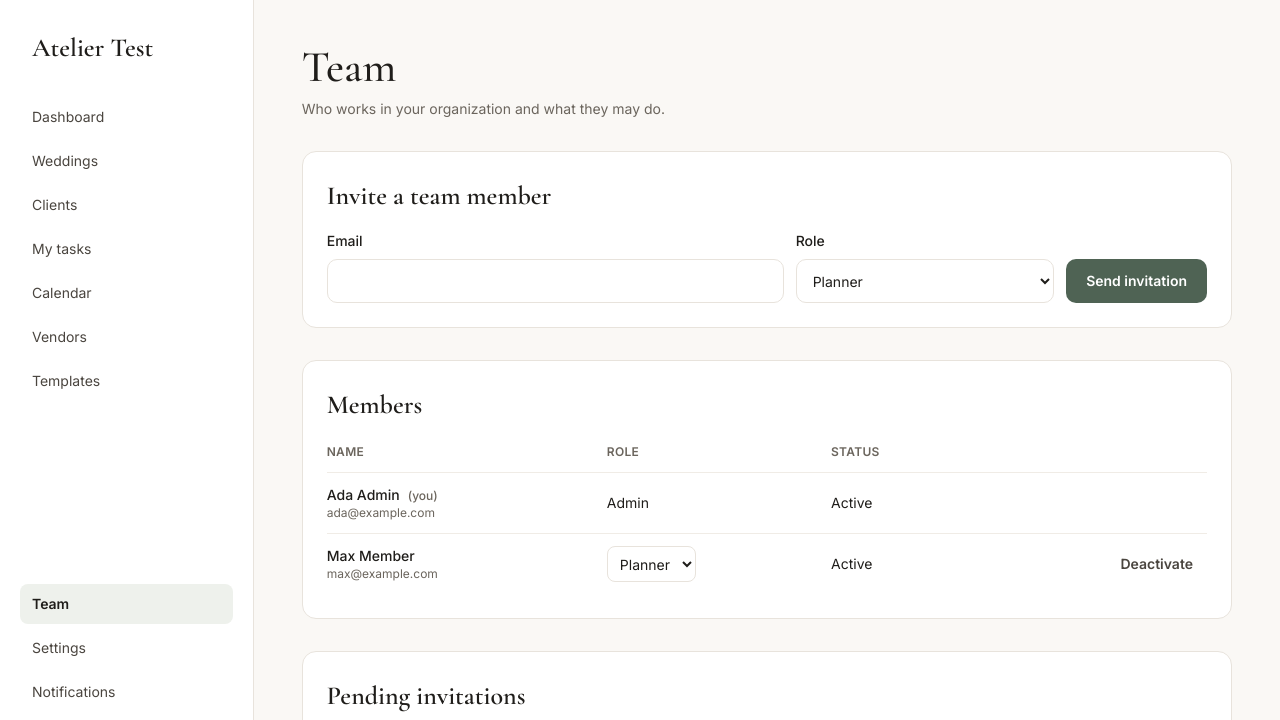
Test: asks for the password again before a sensitive change, then retries it
Click the button "Deactivate" at (1157, 564), box [1106,546,1207,582]
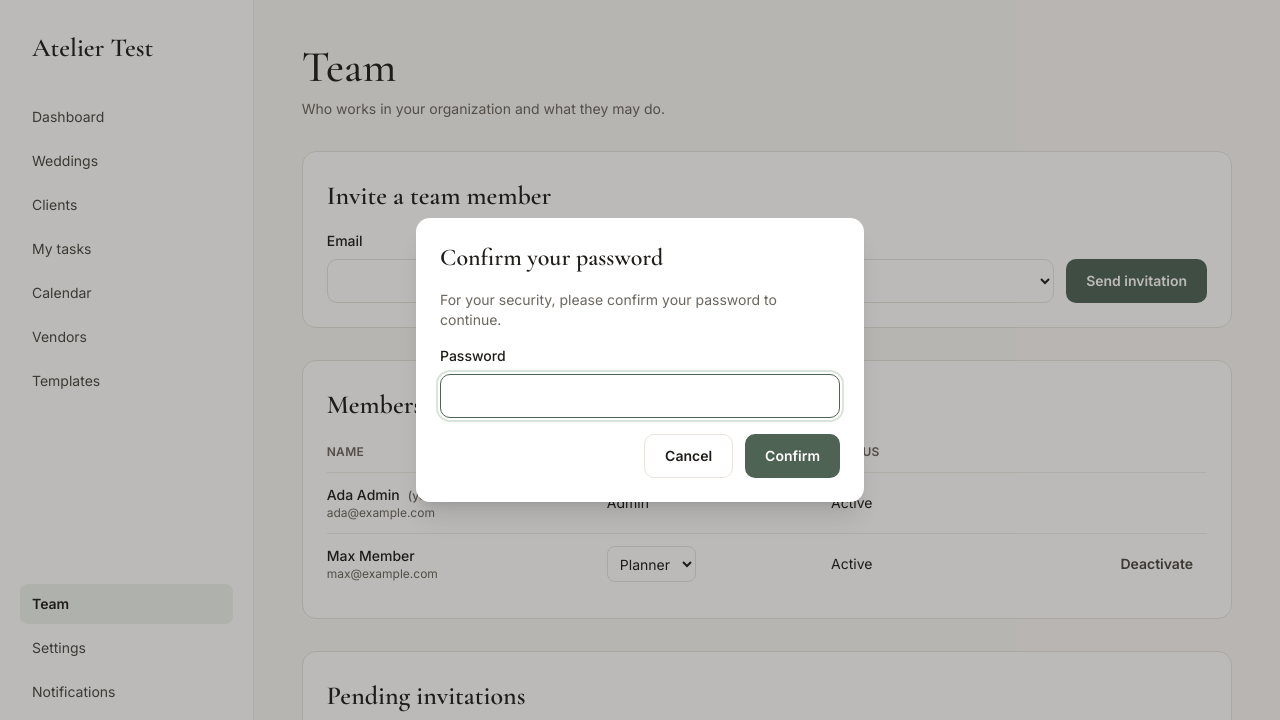
Type "correct horse battery" into the password field labelled "Password" at (640, 396), box [440,374,840,418]
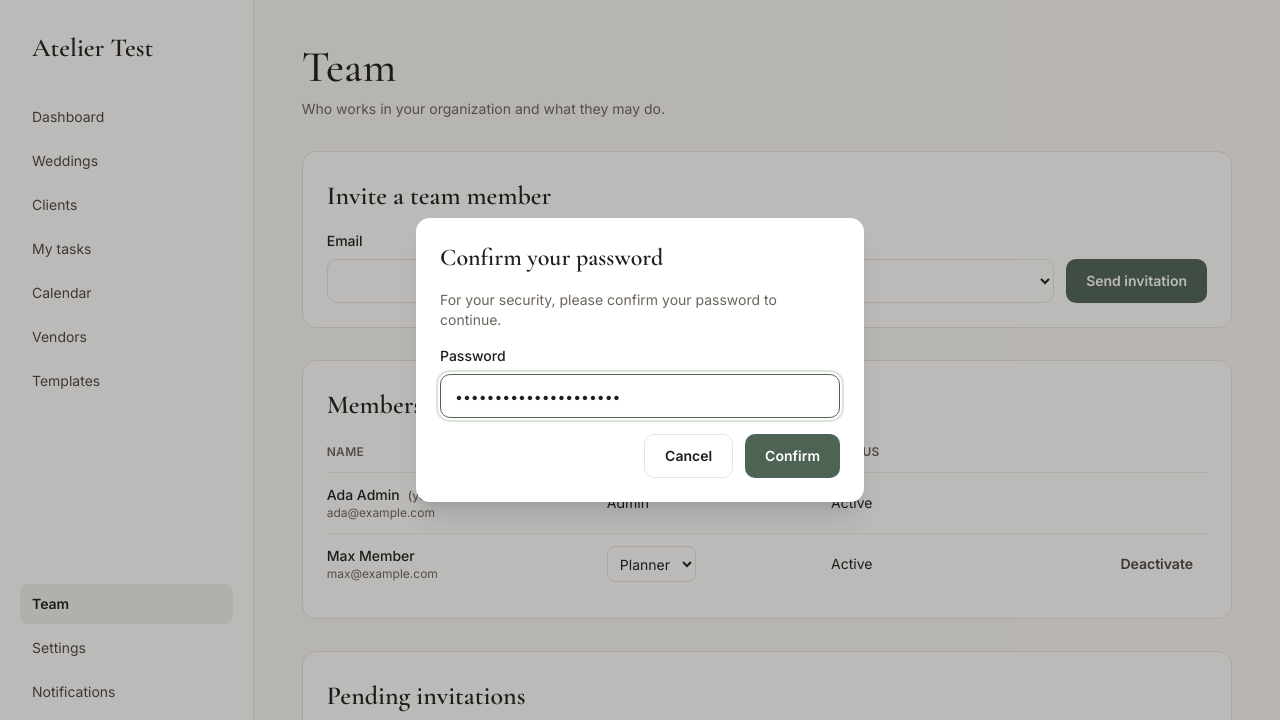
Click the button "Confirm" at (793, 456), box [745,434,840,478]
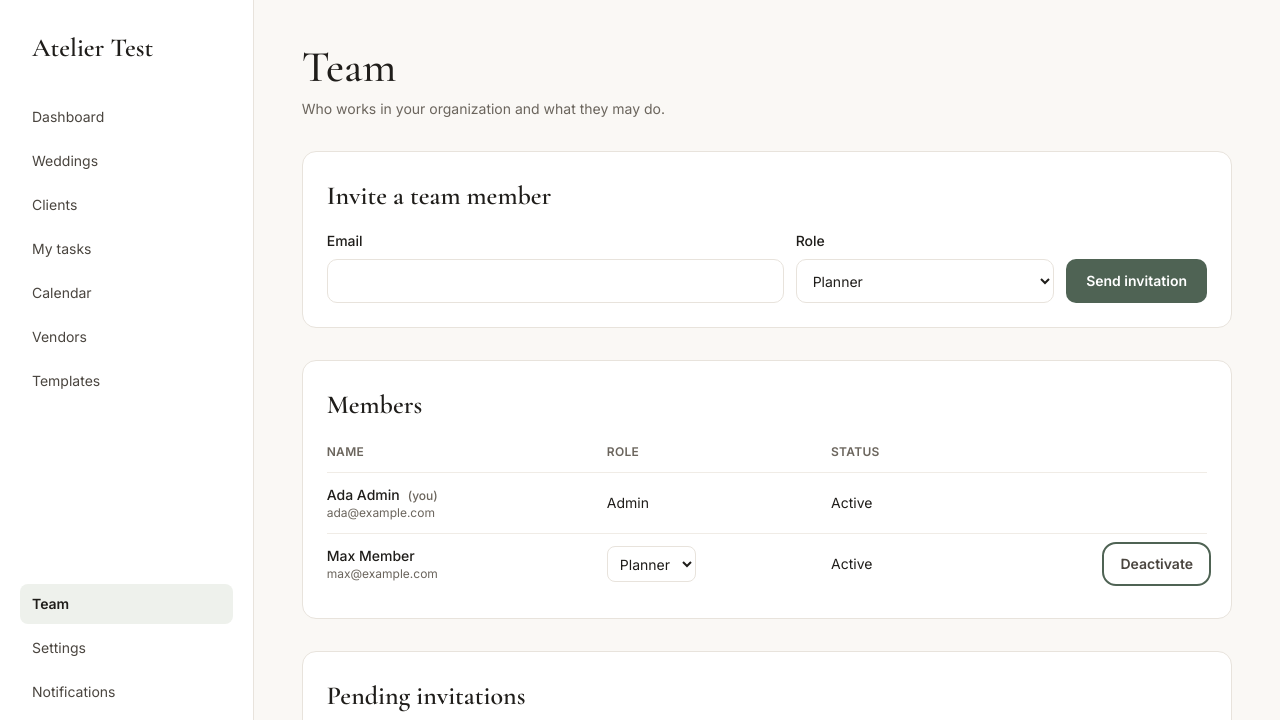
Result: the dialog is gone
